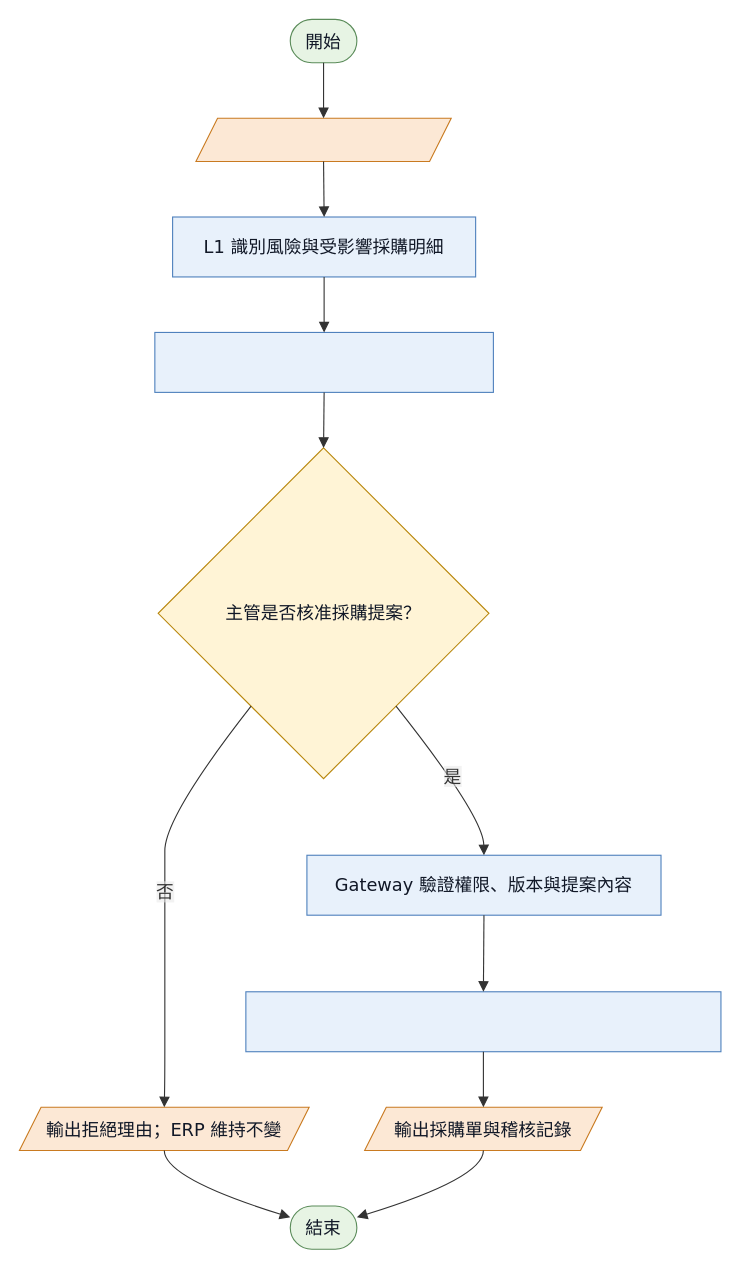
This 740x1269 diagram has some shape labels left out. The shapes that lost their labels are listed below. From the top down, each one's box as (x1, y1, x2, y2) in pixels, then its label:
(195, 117, 451, 162): 輸入外部供應鏈風險情資
(154, 331, 493, 392): L2 分析替代供應商並建立採購提案
(245, 991, 721, 1052): 原子寫入採購單、effect claim 與 execution receipt
